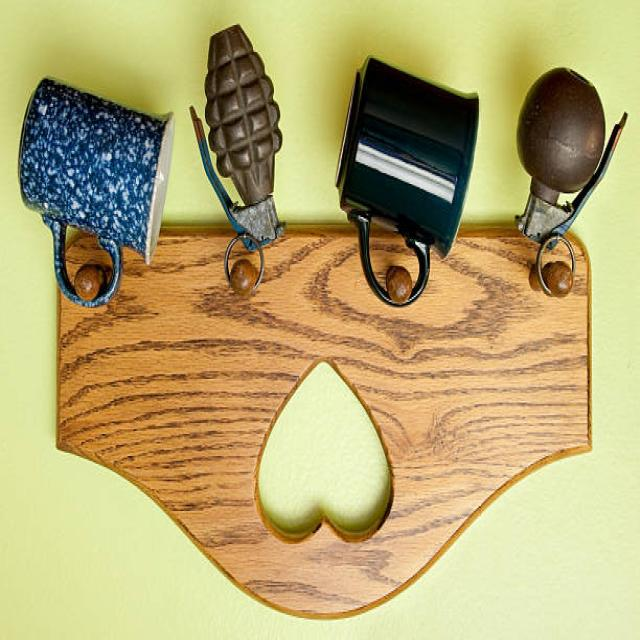grenade: (192, 23, 294, 296), (520, 68, 635, 297)
